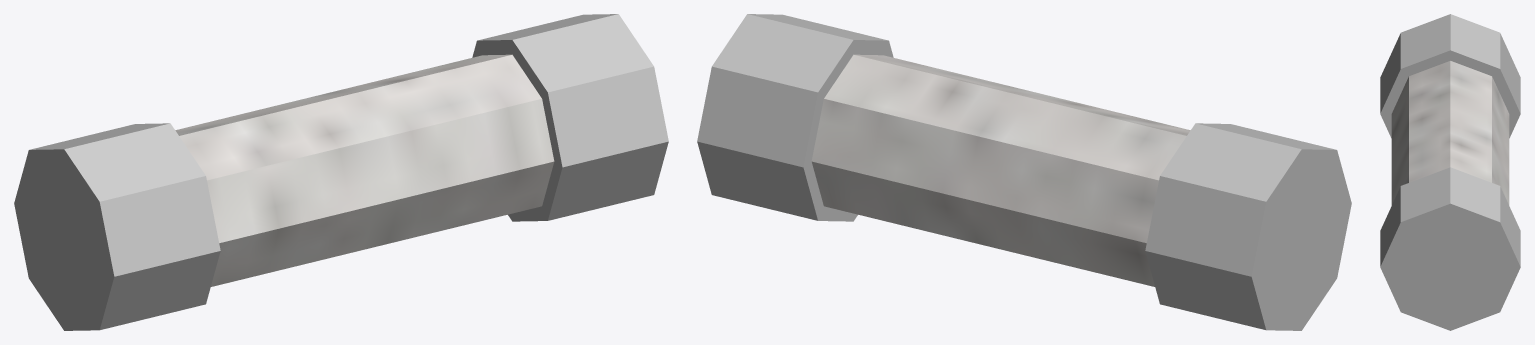
Rendered from fuse.fbx.
3 views of the same model, side by side, from view 1: azimuth 30°, elevation 25°; view 2: azimuth 150°, elevation 25°; view 3: azimuth 270°, elevation 25° (orthographic). The views are drawn at different scales.
Visible parts, largest first — view 1: Cylinder.005; view 2: Cylinder.005; view 3: Cylinder.005.
Part boxes in pixels (box(x1,y1,x2,y2)): Cylinder.005: box(14, 14, 668, 330); Cylinder.005: box(697, 14, 1351, 330); Cylinder.005: box(1380, 14, 1520, 330).
Size of the model in its own units: 46.84 by 14.66 by 14.66.
